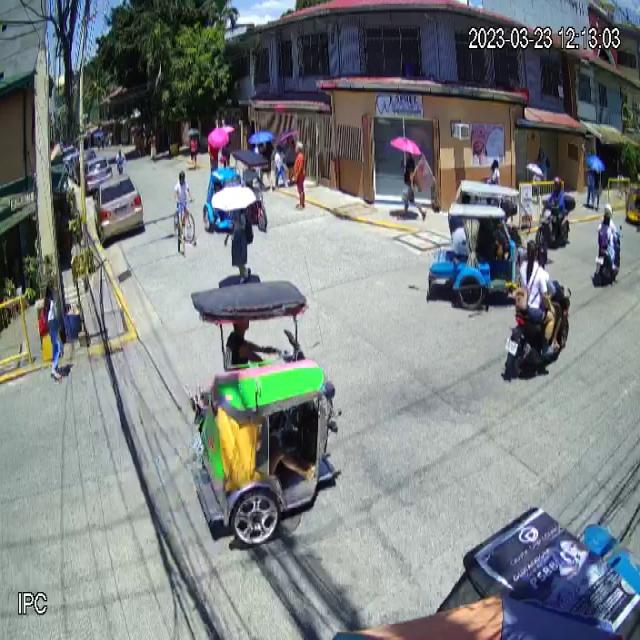Tricycle: (182, 275, 343, 552), (425, 177, 525, 310)
